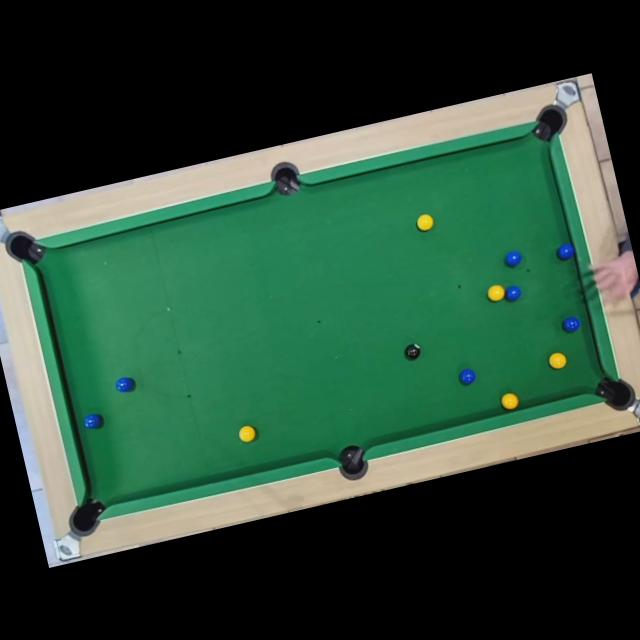Ball: (414, 212, 435, 232), (115, 374, 136, 394), (562, 315, 582, 334), (236, 424, 256, 443), (547, 351, 567, 370), (500, 391, 520, 410), (457, 367, 476, 386), (555, 243, 575, 261), (486, 284, 506, 302), (403, 342, 422, 360), (83, 412, 103, 429), (503, 284, 521, 302), (504, 250, 522, 266)
